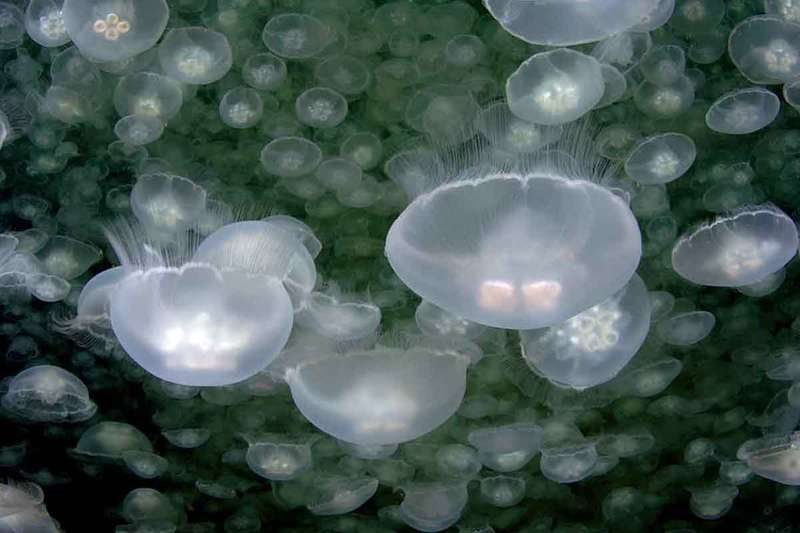jellyfish: (372, 122, 653, 314), (95, 235, 307, 386), (254, 339, 497, 448), (672, 210, 799, 290), (496, 43, 617, 123)
